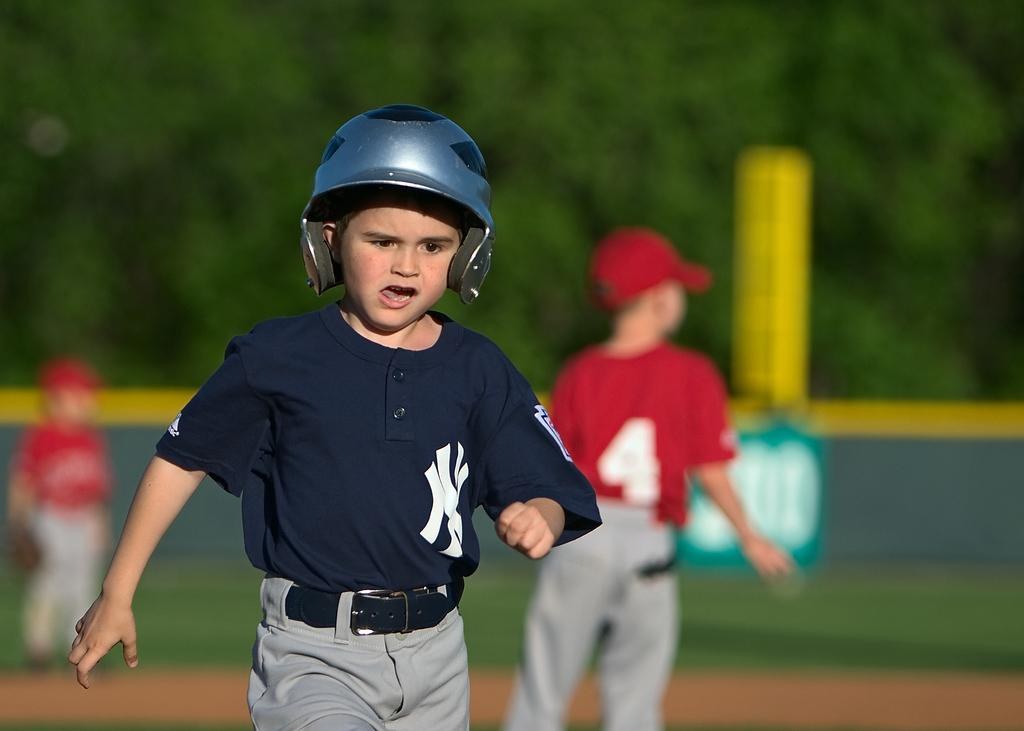helmet: (300, 103, 497, 324)
nohelmet: (585, 225, 716, 347)
